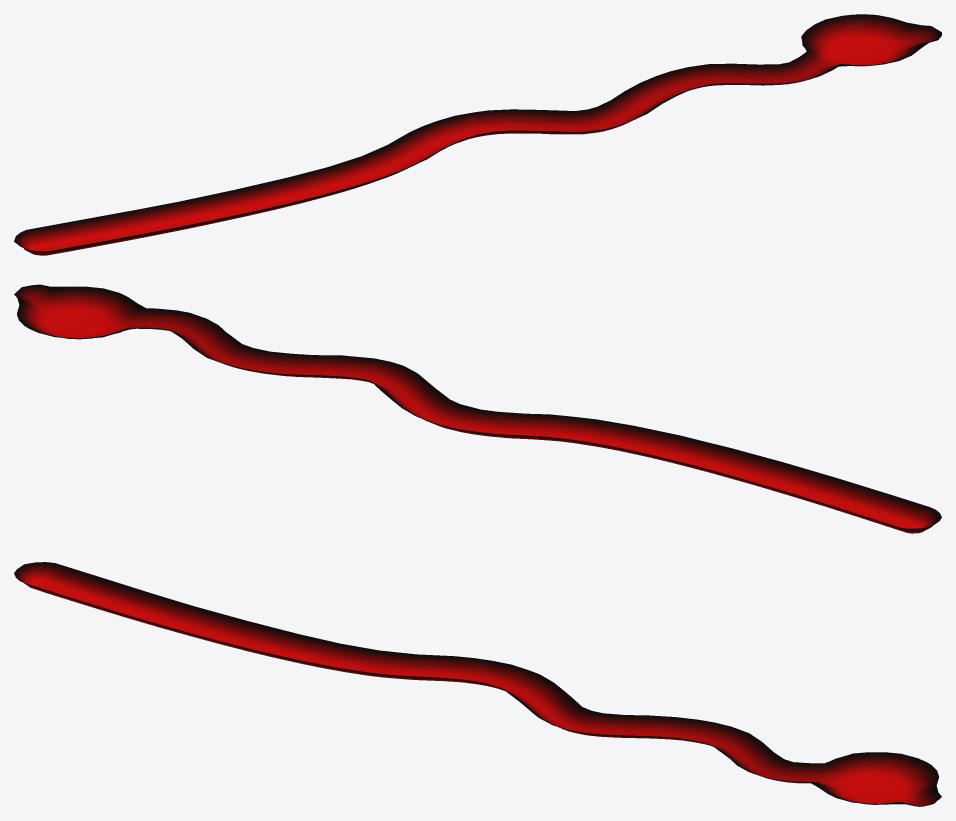
Rendered from Main_ground.fbx.
The picture shows the model from 3 angles, top to bottom: view 1: azimuth 30°, elevation 25°; view 2: azimuth 150°, elevation 25°; view 3: azimuth 330°, elevation 25°; orthographic projection.
Parts seen in each view (by area): view 1: uvlayout11; view 2: uvlayout11; view 3: uvlayout11.
Boxes of the visible parts, x1,y1,x2,y2 form: uvlayout11: [14, 14, 941, 255]; uvlayout11: [14, 284, 941, 533]; uvlayout11: [14, 562, 941, 806].
Bounding box in the file's own units: 24013 × 301 × 2787.
